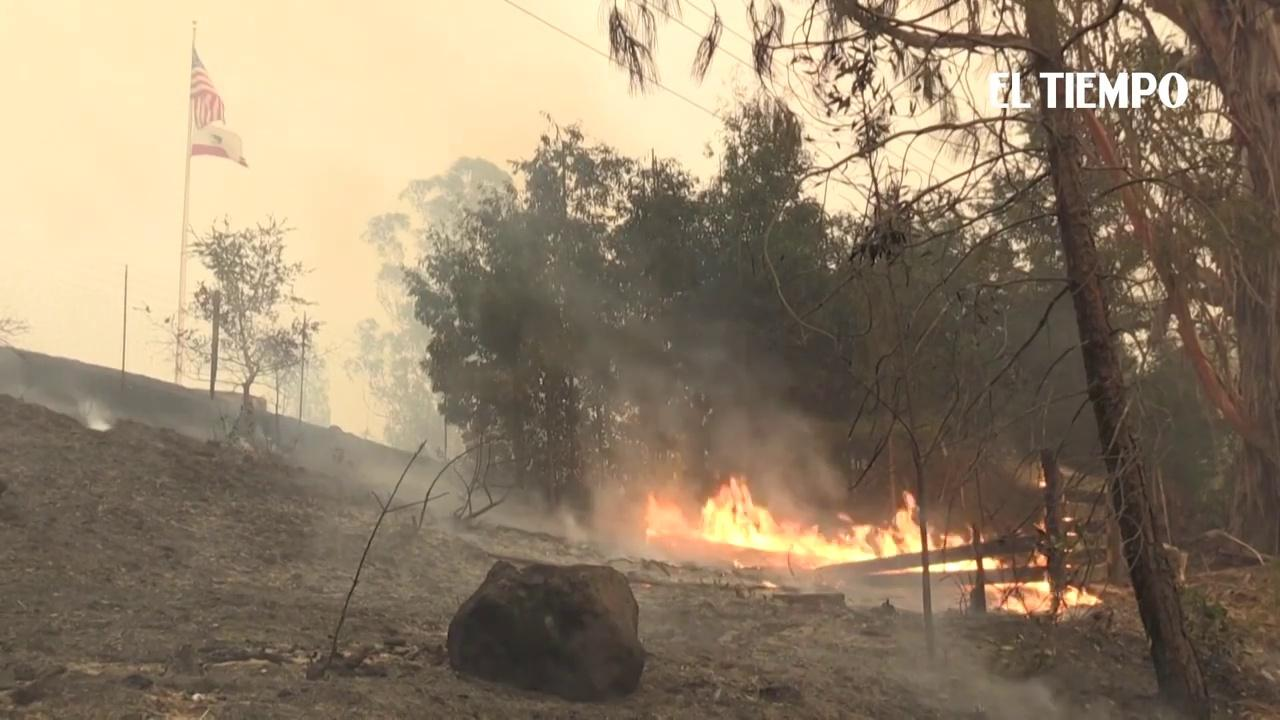Fire: (640, 473, 1003, 569), (988, 581, 1102, 616)
